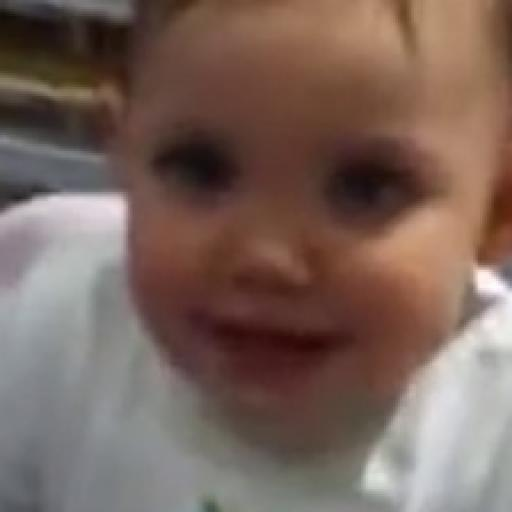Autism: (84, 13, 512, 461)
